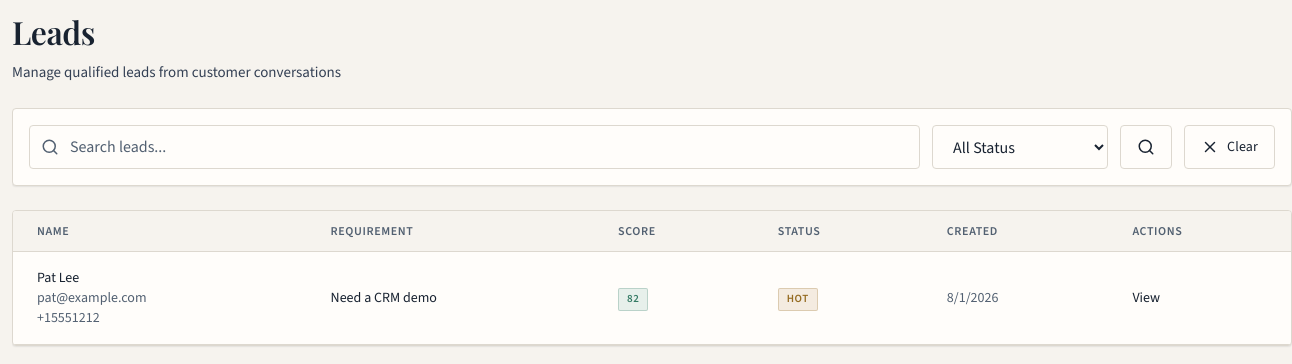
Test: Leads search and status filters › ignores an invalid status from the URL and recovers after clearing filters
Expected: the text "Pat Lee" is shown, [37,268,79,287]
Expected: the dropdown named "Status" shows "All Status", [932,125,1108,169]
What coordinates should you click on to do the following:
click the button "Clear"
I would click on:
 (1230, 147)
Its box is [1184,125,1275,169].
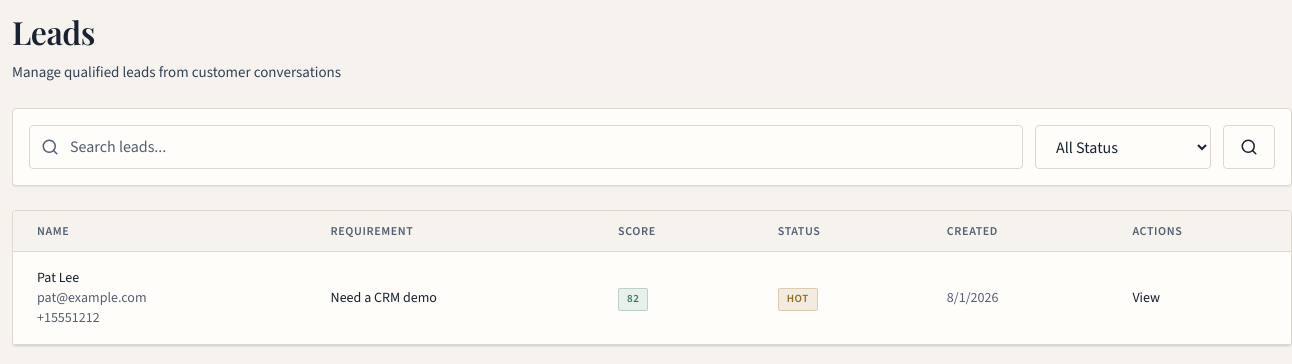
Expected: the text "Pat Lee" is shown, [37,268,79,287]
Expected: the button "Clear" is gone
